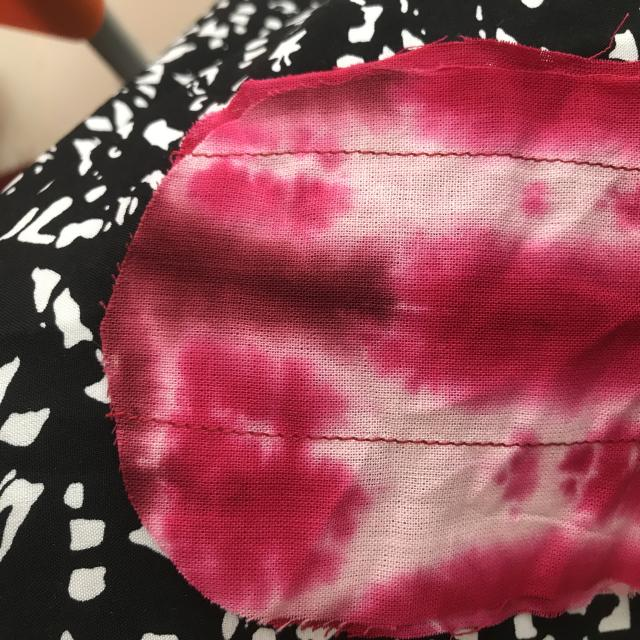good: (360, 428, 436, 454), (373, 142, 430, 168), (528, 150, 583, 174), (462, 433, 498, 460)
